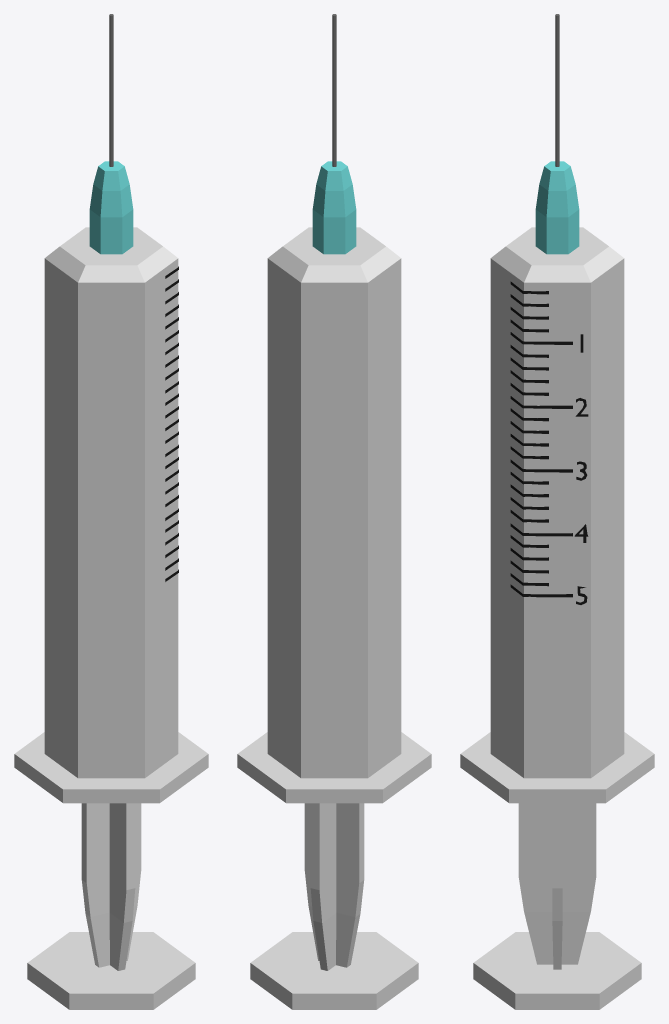
The model's file is Syringe.glb.
The picture shows the model from 3 angles, left to right: view 1: azimuth 30°, elevation 25°; view 2: azimuth 150°, elevation 25°; view 3: azimuth 270°, elevation 25°; orthographic projection.
Parts seen in each view (by area): view 1: Barrel_Cylinder.001, Plunger_Cube.001; view 2: Barrel_Cylinder.001, Plunger_Cube.001; view 3: Barrel_Cylinder.001, Plunger_Cube.001.
Boxes of the visible parts, x1=… form: Barrel_Cylinder.001: x1=14, y1=14, x2=208, y2=803; Plunger_Cube.001: x1=27, y1=803, x2=195, y2=1009; Barrel_Cylinder.001: x1=237, y1=14, x2=431, y2=803; Plunger_Cube.001: x1=250, y1=803, x2=418, y2=1009; Barrel_Cylinder.001: x1=460, y1=14, x2=654, y2=803; Plunger_Cube.001: x1=473, y1=803, x2=641, y2=1009.
Size of the model in its own units: 0.2963 by 1.88 by 0.3422.
